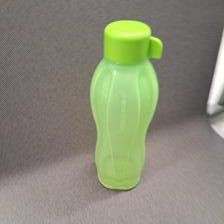bottle: (89, 18, 161, 190)
